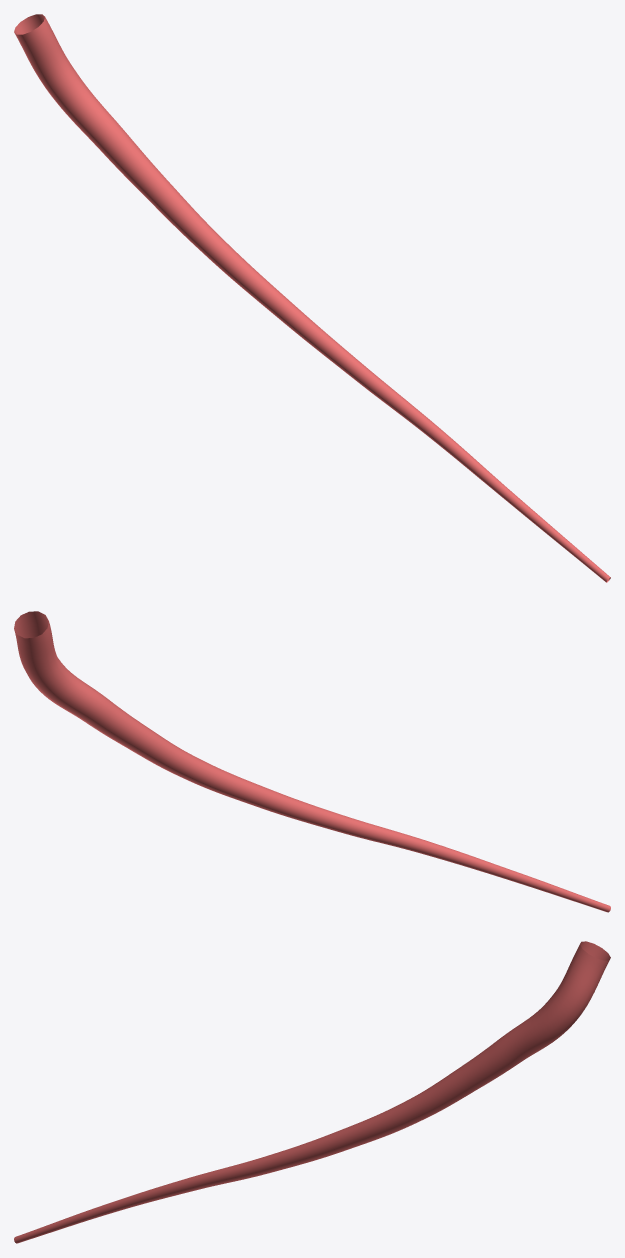
The model's file is Posterior_superior_alveolar_artery.r_BezierCurve.107.glb.
3 renders of one model, top to bottom at view 1: azimuth 90°, elevation 25°; view 2: azimuth 150°, elevation 25°; view 3: azimuth 270°, elevation 25°, orthographic. The views are drawn at different scales.
Visible parts, largest first — view 1: Posterior_superior_alveolar_artery.r_BezierCurve.107; view 2: Posterior_superior_alveolar_artery.r_BezierCurve.107; view 3: Posterior_superior_alveolar_artery.r_BezierCurve.107.
Part boxes in pixels (x1,y1,x2,y2): Posterior_superior_alveolar_artery.r_BezierCurve.107: [14, 14, 610, 582]; Posterior_superior_alveolar_artery.r_BezierCurve.107: [14, 611, 610, 912]; Posterior_superior_alveolar_artery.r_BezierCurve.107: [14, 941, 610, 1243].
Size of the model in its own units: 0.0097 by 0.0136 by 0.0171.
